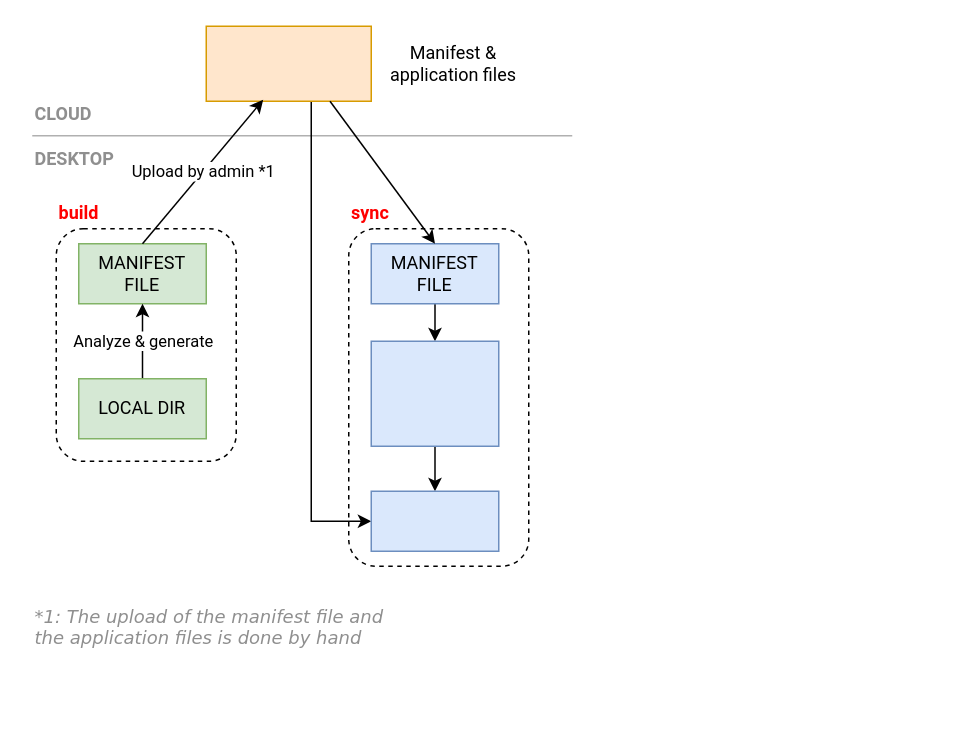
This 966x732 diagram has some shape labels left out. The shapes that lost their labels are listed below. From the top down, each one's centre as x and y in pixels, then its label:
[288,63]: PUBLIC FILE REPOSITORY
[434,393]: ESTABLISH MISSING & OUTDATED FILES
[434,520]: DOWNLOAD FILES
